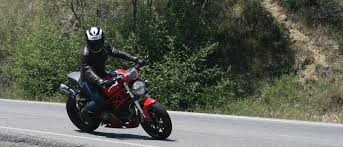moto: (58, 66, 177, 141)
person: (80, 25, 116, 86)
